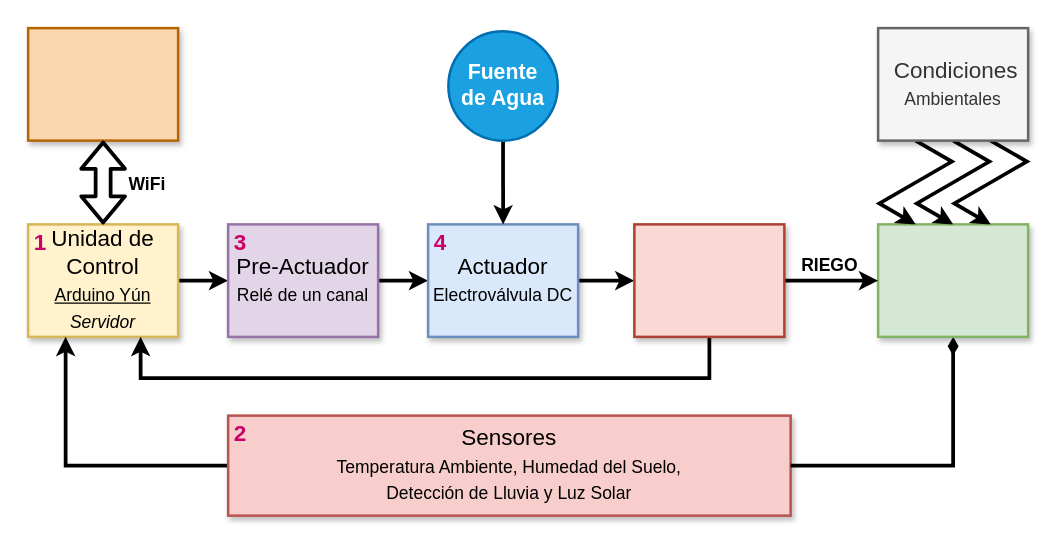
Some shapes in this 1060 by 546 pixel diagram are drawn without their labels. Each missing label, with the centre of its shape:
"Huerto Ubano Macetas" goes at pixel 953 282.
"Interfaz Humana Usuario Cliente" goes at pixel 103 85.
"Sensor Volumen de Agua" goes at pixel 710 282.
